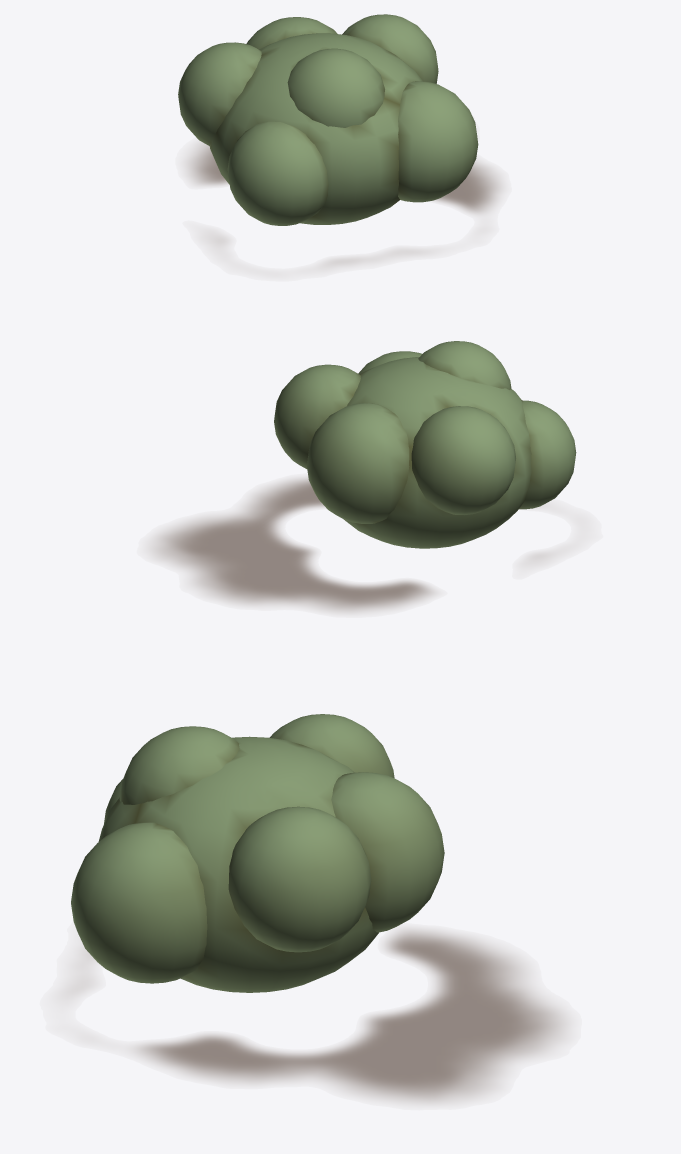
Rendered from prop_bush.glb.
3 renders of one model, top to bottom at view 1: azimuth 30°, elevation 25°; view 2: azimuth 150°, elevation 25°; view 3: azimuth 270°, elevation 25°, orthographic. The views are drawn at different scales.
Visible parts, largest first — view 1: b0, bump1, bump0, bump3, bump5, bump4, baked_shadow, bump2; view 2: baked_shadow, b0, bump2, bump5, bump4, bump1, bump3; view 3: baked_shadow, b0, bump0, bump4, bump2, bump3, bump5.
Part boxes in pixels (x1,y1,x2,y2): b0: (209,33,422,224); bump1: (227,121,328,225); bump0: (398,81,478,202); bump3: (287,48,384,127); bump5: (178,42,261,146); bump4: (342,14,438,83); baked_shadow: (189,143,499,263); bump2: (246,17,337,49); baked_shadow: (155,478,542,611); b0: (344,357,531,548); bump2: (307,403,409,523); bump5: (411,406,515,514); bump4: (274,364,360,468); bump1: (519,400,576,509); bump3: (418,341,511,389); baked_shadow: (88,930,562,1101); b0: (98,736,378,992); bump0: (71,822,207,983); bump4: (228,806,371,952); bump2: (331,772,444,932); bump3: (119,726,239,804); bump5: (269,714,394,778).
Size of the model in its own units: 3.87 by 1.6 by 4.02.
Materials: 2 (1 with a texture image).
